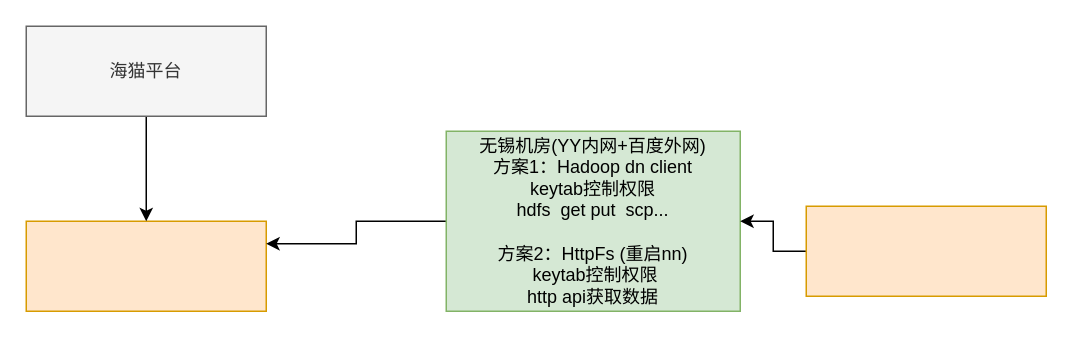
Some shapes in this 1073 by 338 pixel diagram are drawn without their labels. Each missing label, with the box of its shape:
佛山机房（YY内网） Hadoop集群: (25, 220, 266, 311)
百度服务 数据读写: (805, 205, 1046, 296)
